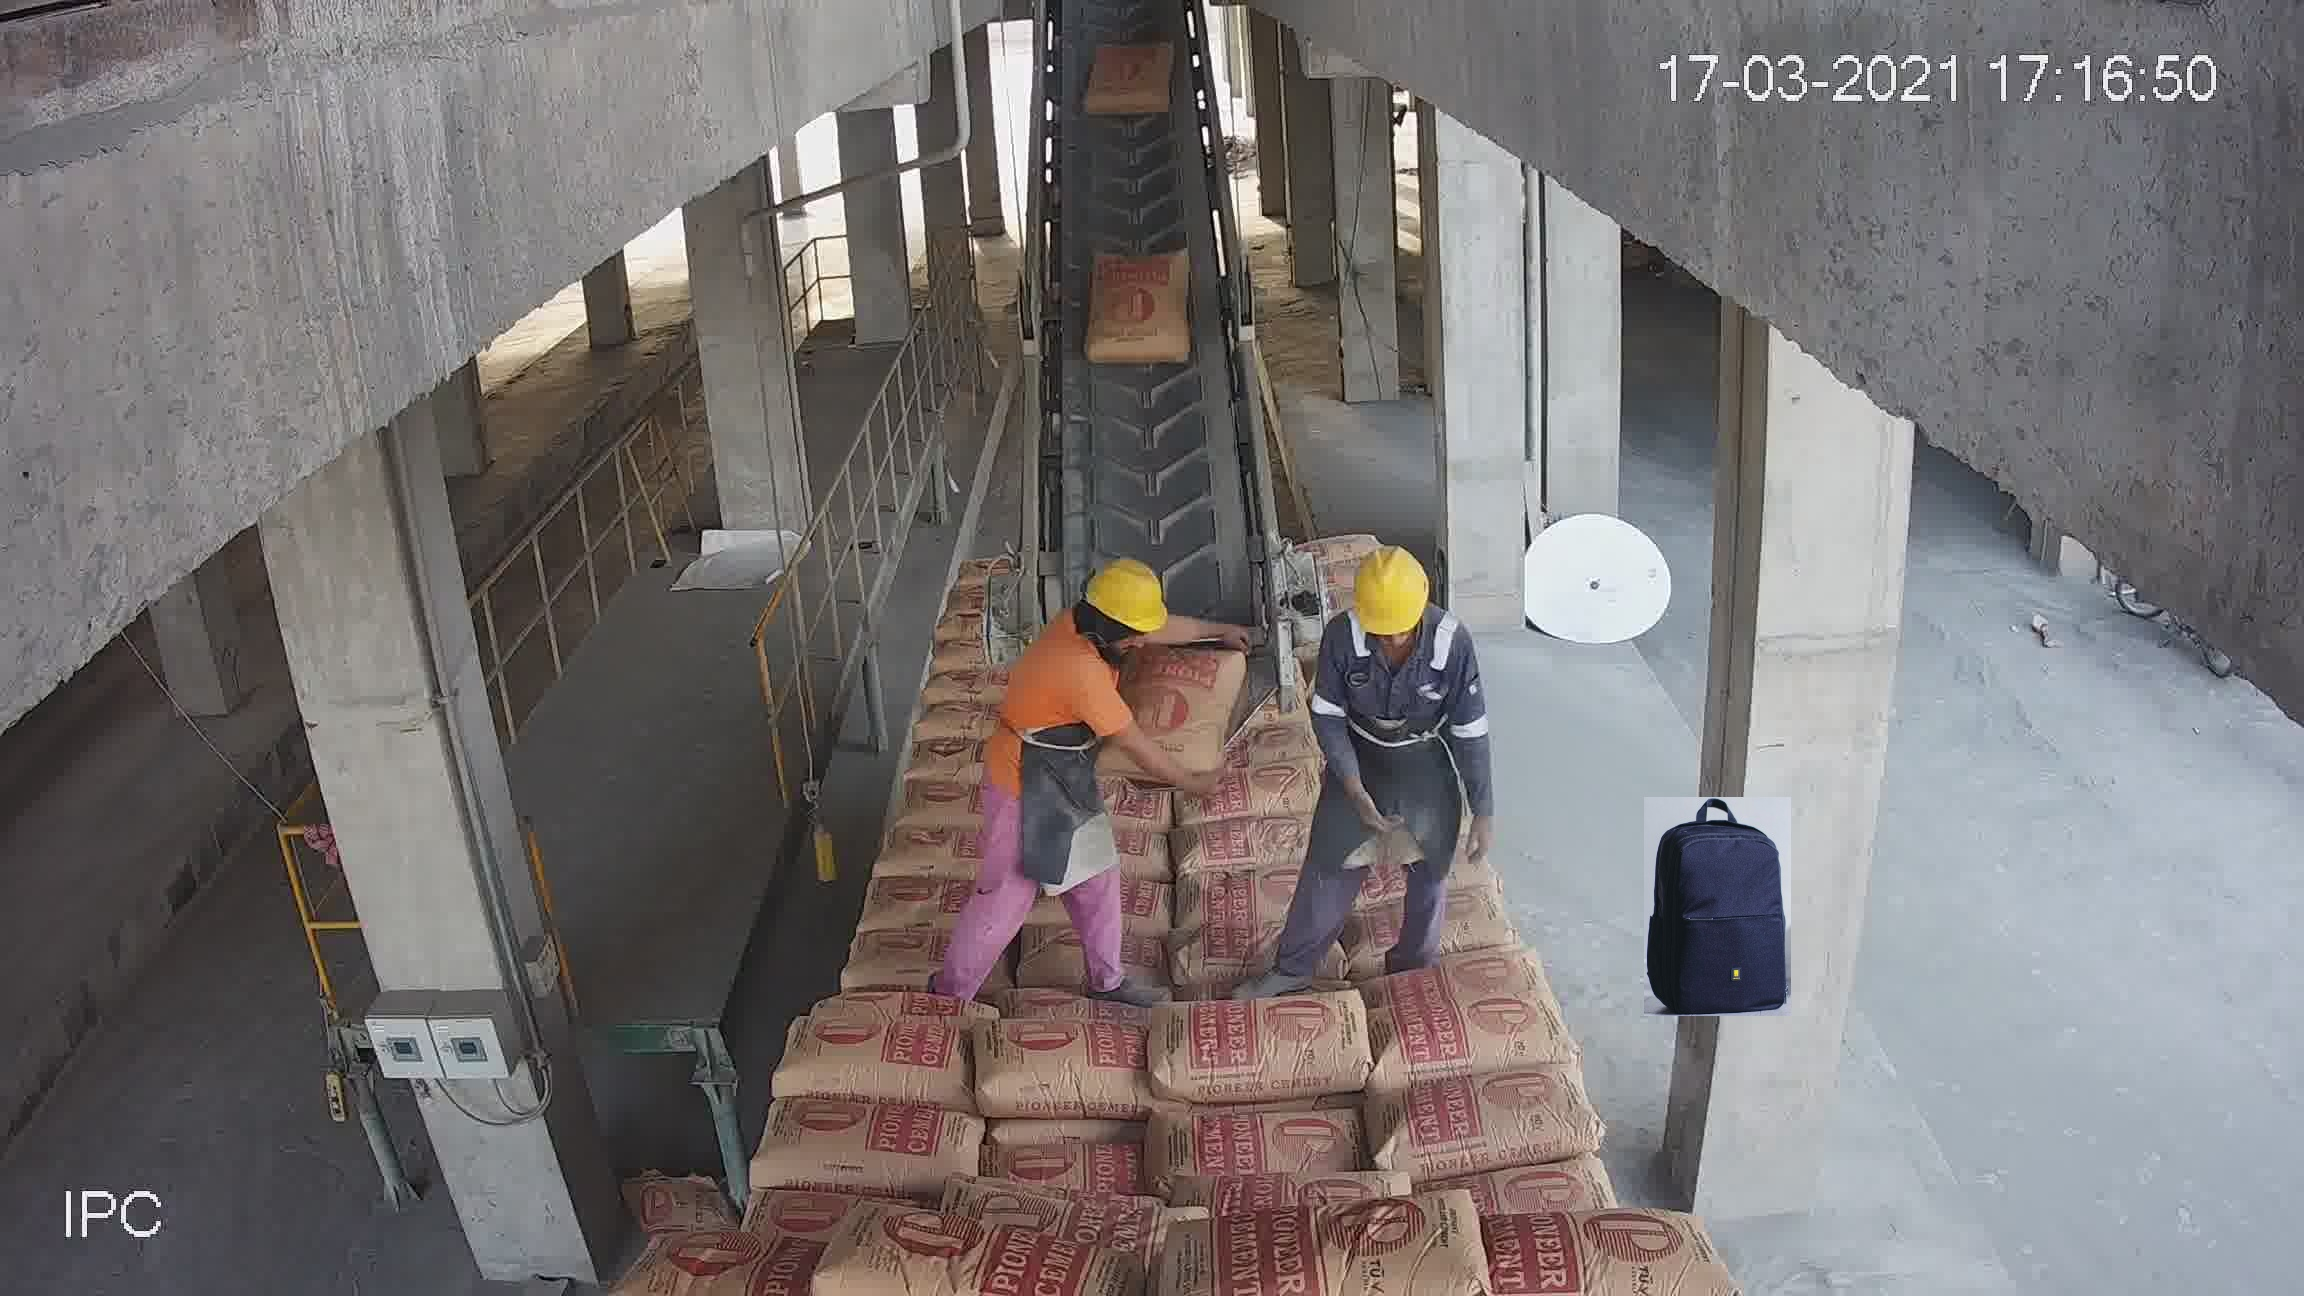bag: (1078, 253, 1195, 347), (1087, 38, 1174, 125)
bag_h: (1199, 1188, 1508, 1294), (1144, 989, 1380, 1109), (790, 1215, 1128, 1294), (1442, 1203, 1709, 1296), (748, 1100, 995, 1196), (972, 1006, 1157, 1128), (1351, 999, 1579, 1095), (1380, 1082, 1581, 1192), (764, 1021, 981, 1108), (1160, 1111, 1366, 1196), (1347, 877, 1506, 970), (635, 1228, 843, 1294), (987, 1143, 1161, 1203), (1367, 951, 1537, 1013), (1168, 761, 1317, 824), (1163, 820, 1309, 880), (1168, 870, 1299, 937), (820, 983, 994, 1025), (1161, 929, 1282, 989), (858, 869, 968, 923), (834, 926, 951, 972), (880, 820, 983, 870), (896, 772, 983, 820), (904, 731, 983, 777), (1301, 529, 1378, 557)
bag_v: (1109, 639, 1239, 783)
belt: (1021, 43, 1272, 717)
